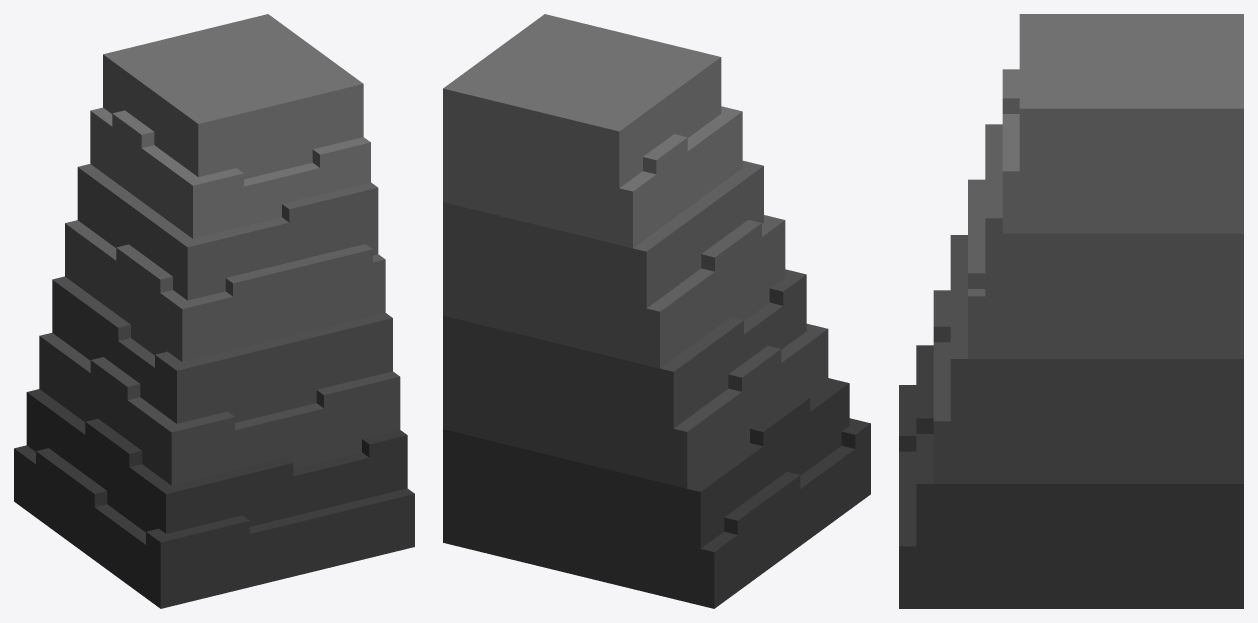
The model's file is mountain-edge-outer-1.gltf.
3 views of the same model, side by side, from view 1: azimuth 30°, elevation 25°; view 2: azimuth 150°, elevation 25°; view 3: azimuth 270°, elevation 25° (orthographic). The views are drawn at different scales.
Visible parts, largest first — view 1: mountain-edge-outer-1; view 2: mountain-edge-outer-1; view 3: mountain-edge-outer-1.
Boxes of the visible parts, <box> form: mountain-edge-outer-1: <box>14,14,414,608</box>; mountain-edge-outer-1: <box>443,14,870,608</box>; mountain-edge-outer-1: <box>899,14,1243,608</box>.
Size of the model in its own units: 2 by 3.2 by 2.
1 material, 1 textured.
